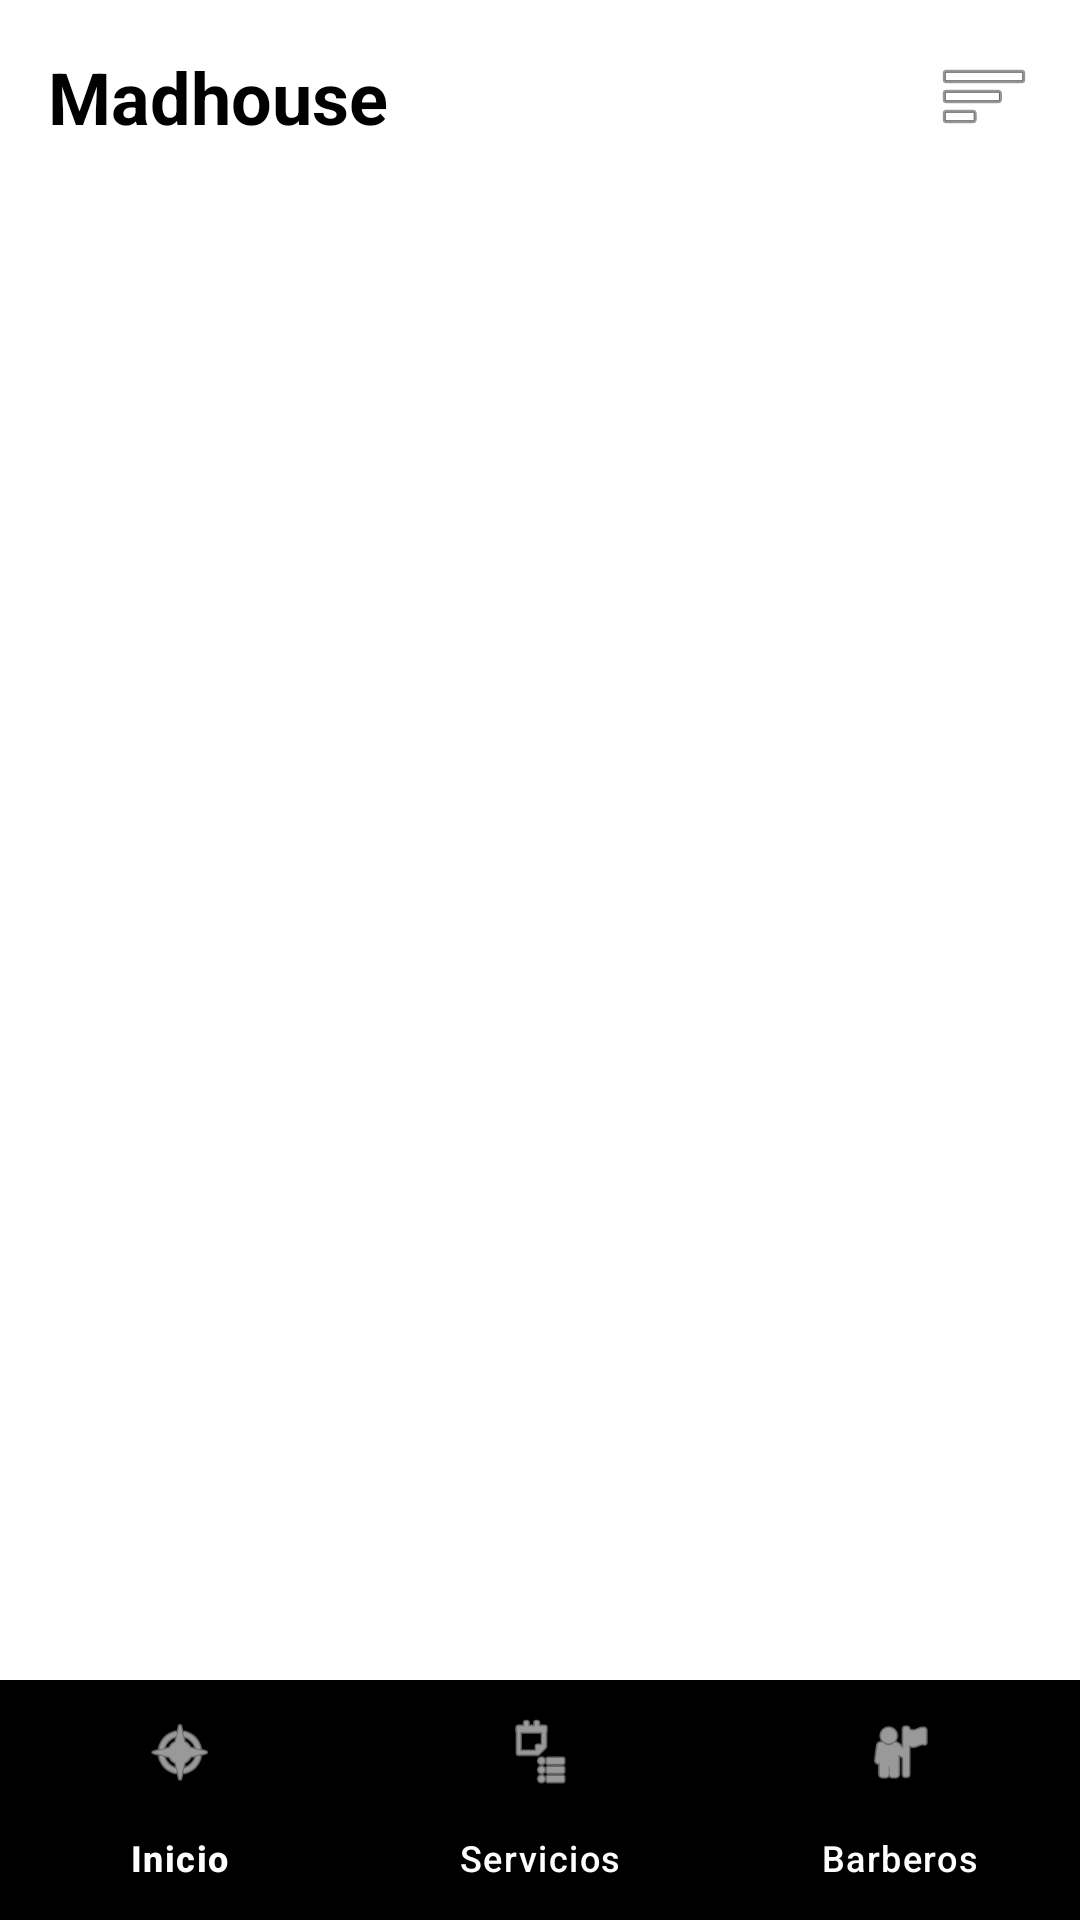

Icons on this 1080 x 1920 Android screen, each with its box as (x1, y1, x2, y2):
sort by size: (943, 70, 1025, 123)
